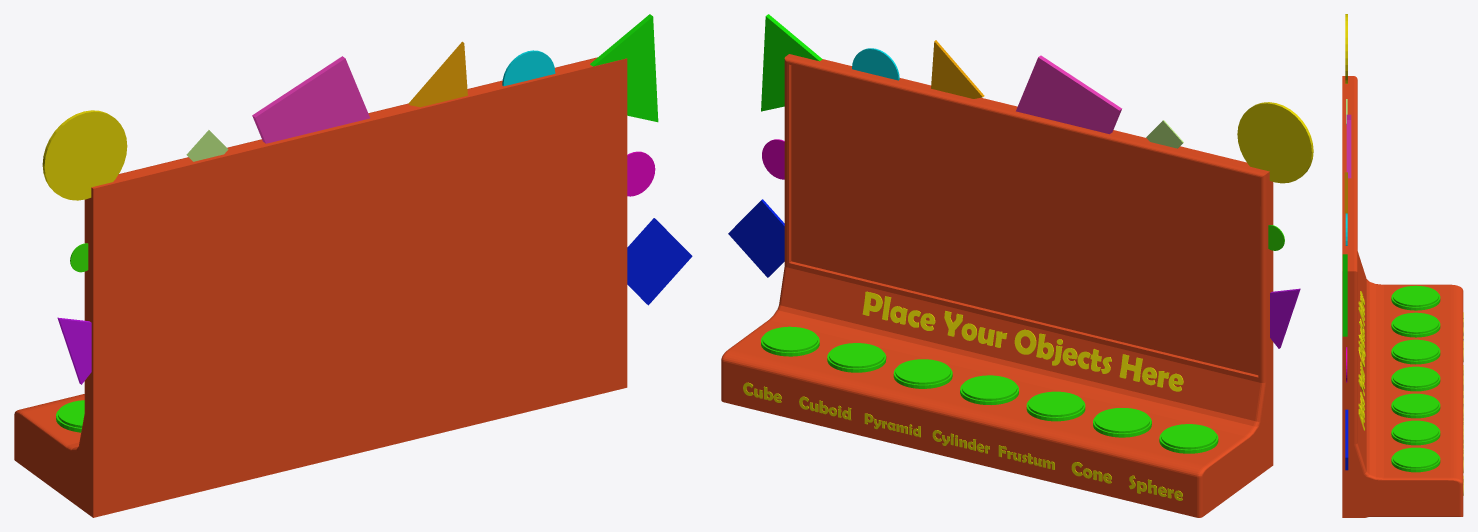
The model's file is New Shape Table .fbx.
The picture shows the model from 3 angles, left to right: view 1: azimuth 30°, elevation 25°; view 2: azimuth 150°, elevation 25°; view 3: azimuth 270°, elevation 25°; orthographic projection. The views are drawn at different scales.
Visible parts, largest first — view 1: Cube; view 2: Cube, Text.003, Cylinder.031, Cylinder.034, Cylinder.004, Cylinder.003, Cylinder.002, Cylinder.029, Cylinder.033; view 3: Cube, Cylinder.002, Cylinder.003, Cylinder.029, Cylinder.004, Cylinder.031, Cylinder.033, Cylinder.034, Text.003.
Boxes of the visible parts, left/top/right/bottom form: Cube: left=14, top=14, right=692, bottom=517; Cube: left=721, top=14, right=1313, bottom=517; Text.003: left=862, top=291, right=1183, bottom=391; Cylinder.031: left=1026, top=391, right=1085, bottom=421; Cylinder.034: left=1159, top=424, right=1218, bottom=453; Cylinder.004: left=893, top=359, right=952, bottom=388; Cylinder.003: left=827, top=343, right=886, bottom=372; Cylinder.002: left=761, top=326, right=819, bottom=356; Cylinder.029: left=960, top=375, right=1018, bottom=404; Cylinder.033: left=1093, top=408, right=1151, bottom=437; Cube: left=1342, top=14, right=1463, bottom=517; Cylinder.002: left=1391, top=447, right=1440, bottom=472; Cylinder.003: left=1391, top=420, right=1440, bottom=445; Cylinder.029: left=1391, top=366, right=1440, bottom=391; Cylinder.004: left=1391, top=393, right=1440, bottom=418; Cylinder.031: left=1391, top=339, right=1440, bottom=364; Cylinder.033: left=1391, top=312, right=1440, bottom=337; Cylinder.034: left=1391, top=285, right=1440, bottom=310; Text.003: left=1358, top=291, right=1365, bottom=430.
Bounding box in the file's own units: 1186 × 708 × 257.
